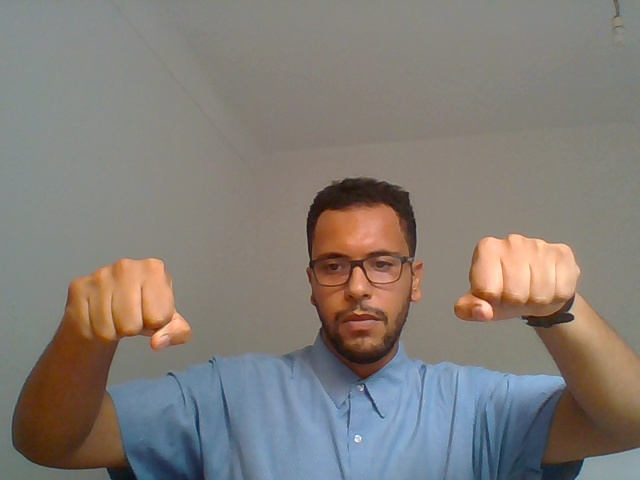yes: (442, 211, 598, 385), (37, 232, 197, 390)
